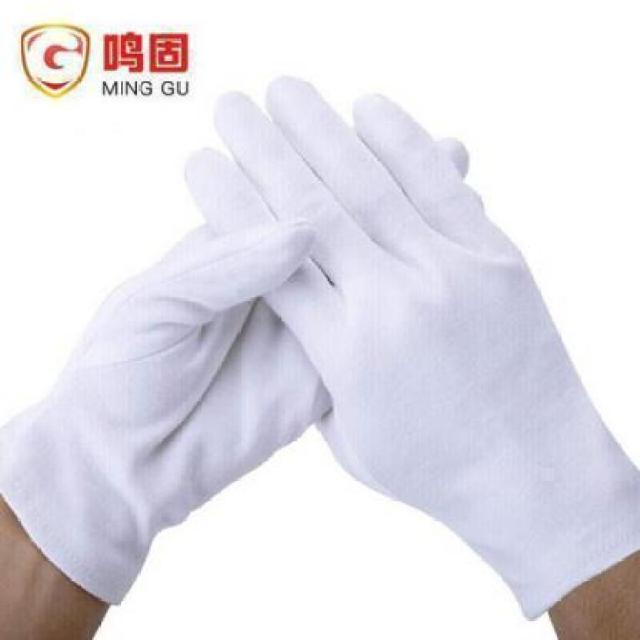hand_glove: (185, 77, 612, 540), (54, 139, 475, 538)
